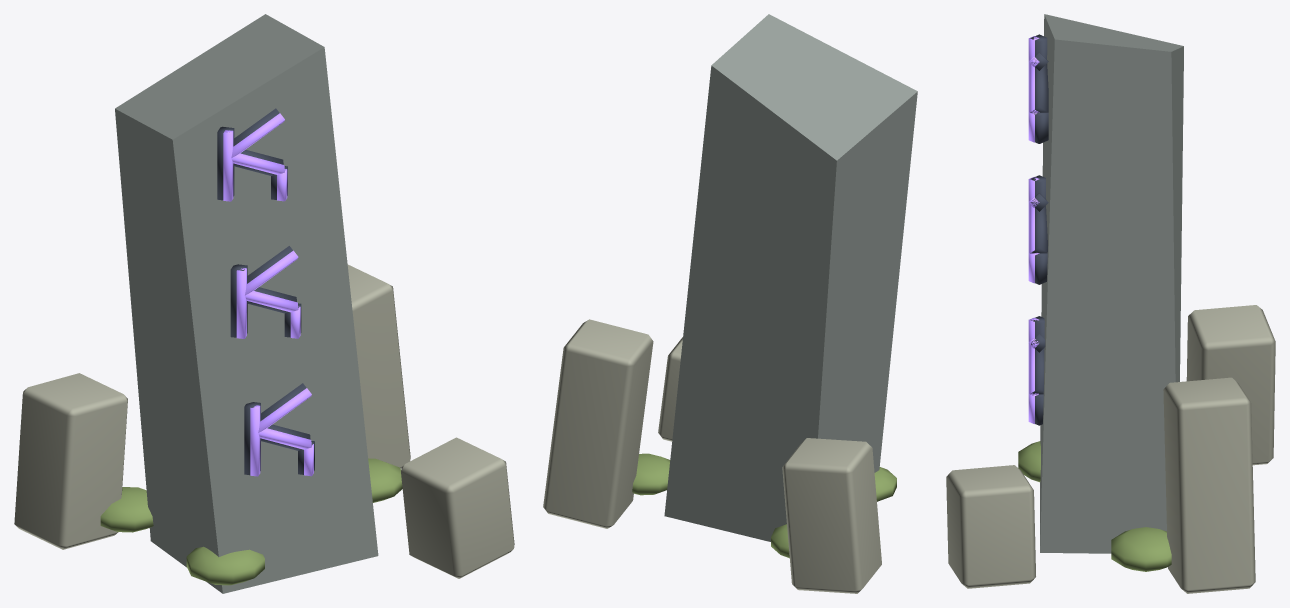
Rendered from wardstone.glb.
3 renders of one model, left to right at view 1: azimuth 30°, elevation 25°; view 2: azimuth 150°, elevation 25°; view 3: azimuth 270°, elevation 25°, orthographic. The views are drawn at different scales.
Visible parts, largest first — view 1: Wardstone_leaning_monolith, Wardstone_broken_satellite, Wardstone_broken_satellite.002, Wardstone_broken_satellite.001, decor_Wardstone_moss.002, decor_Wardstone_moss, decor_Wardstone_moss.001, Wardstone_glowing_rune.008, Wardstone_glowing_rune.004, Wardstone_glowing_rune; view 2: Wardstone_leaning_monolith, Wardstone_broken_satellite.001, Wardstone_broken_satellite, Wardstone_broken_satellite.002, decor_Wardstone_moss.001, decor_Wardstone_moss.002; view 3: Wardstone_leaning_monolith, Wardstone_broken_satellite.001, Wardstone_broken_satellite.002, Wardstone_broken_satellite, decor_Wardstone_moss.001, decor_Wardstone_moss.002, Wardstone_rune_recess.010, Wardstone_rune_recess.006.
Part boxes in pixels (<box>): Wardstone_leaning_monolith: <box>115,14,378,593</box>; Wardstone_broken_satellite: <box>14,373,127,549</box>; Wardstone_broken_satellite.002: <box>401,437,514,578</box>; Wardstone_broken_satellite.001: <box>347,264,410,468</box>; decor_Wardstone_moss.002: <box>186,546,264,585</box>; decor_Wardstone_moss: <box>100,487,153,532</box>; decor_Wardstone_moss.001: <box>368,458,402,502</box>; Wardstone_glowing_rune.008: <box>223,130,233,201</box>; Wardstone_glowing_rune.004: <box>236,268,246,338</box>; Wardstone_glowing_rune: <box>250,405,260,476</box>; Wardstone_leaning_monolith: <box>664,14,917,541</box>; Wardstone_broken_satellite.001: <box>543,319,653,528</box>; Wardstone_broken_satellite: <box>782,438,881,593</box>; Wardstone_broken_satellite.002: <box>658,337,682,441</box>; decor_Wardstone_moss.001: <box>632,453,670,495</box>; decor_Wardstone_moss.002: <box>874,467,896,501</box>; Wardstone_leaning_monolith: <box>1040,14,1183,553</box>; Wardstone_broken_satellite.001: <box>1163,377,1255,593</box>; Wardstone_broken_satellite.002: <box>946,465,1035,588</box>; Wardstone_broken_satellite: <box>1186,305,1275,465</box>; decor_Wardstone_moss.001: <box>1111,527,1171,571</box>; decor_Wardstone_moss.002: <box>1018,441,1040,482</box>; Wardstone_rune_recess.010: <box>1030,63,1048,112</box>; Wardstone_rune_recess.006: <box>1031,206,1047,253</box>.
Size of the model in its own units: 1.89 by 2.56 by 1.55.
